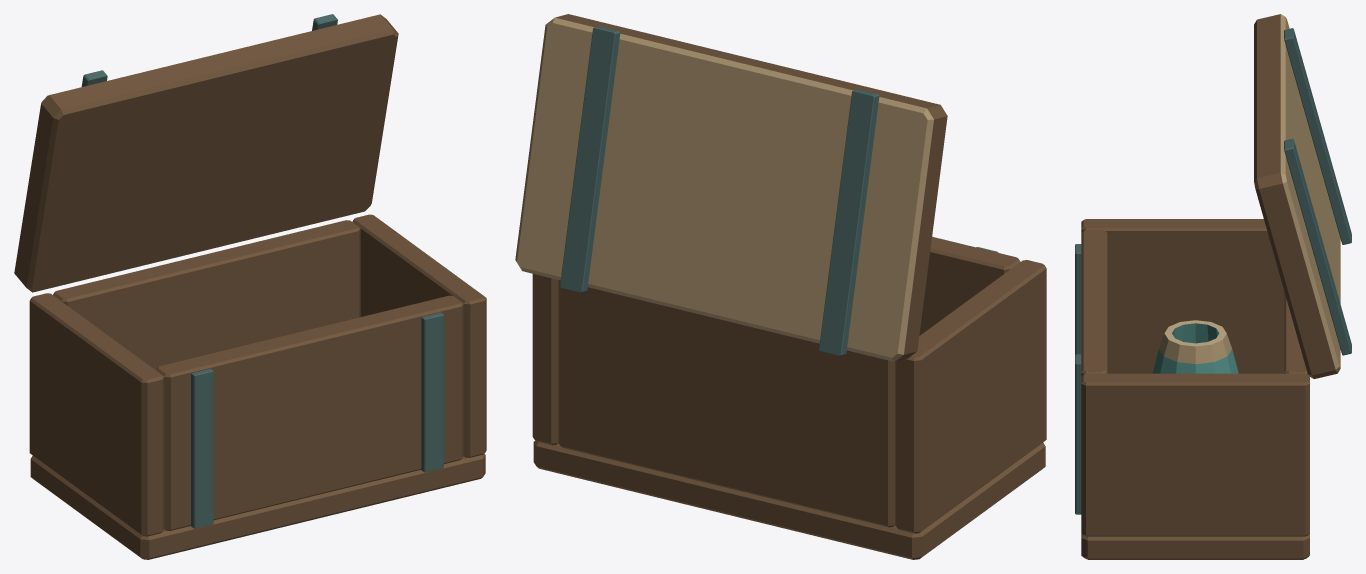
File: supply-cache-open.glb
3 renders of one model, left to right at view 1: azimuth 30°, elevation 25°; view 2: azimuth 150°, elevation 25°; view 3: azimuth 270°, elevation 25°, orthographic. The views are drawn at different scales.
Parts seen in each view (by area): view 1: supply-cache-open__body; view 2: supply-cache-open__body; view 3: supply-cache-open__body.
Part boxes in pixels (x1,y1,x2,y2): supply-cache-open__body: (14, 14, 486, 559); supply-cache-open__body: (515, 14, 1046, 559); supply-cache-open__body: (1075, 14, 1351, 559).
Bounding box in the file's own units: 1.2 × 1.32 × 0.8464.
